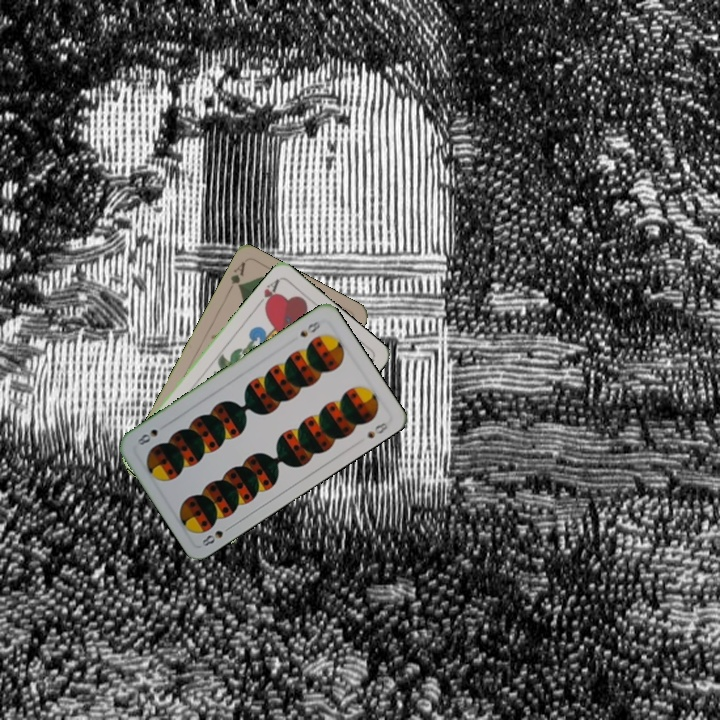GA: (226, 257, 248, 291)
HA: (252, 275, 282, 311)
S8: (198, 521, 235, 549), (296, 317, 323, 340)
